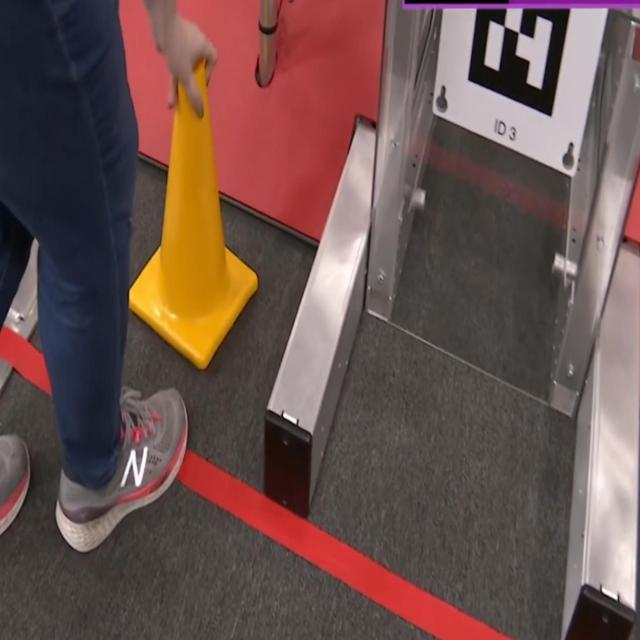frc_cone: (127, 52, 260, 368)
